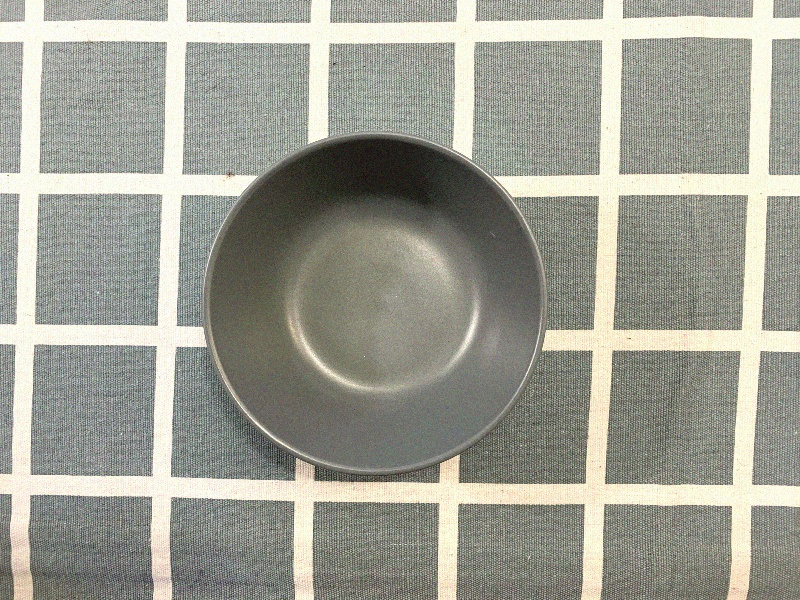bowl_big: (180, 126, 557, 489)
